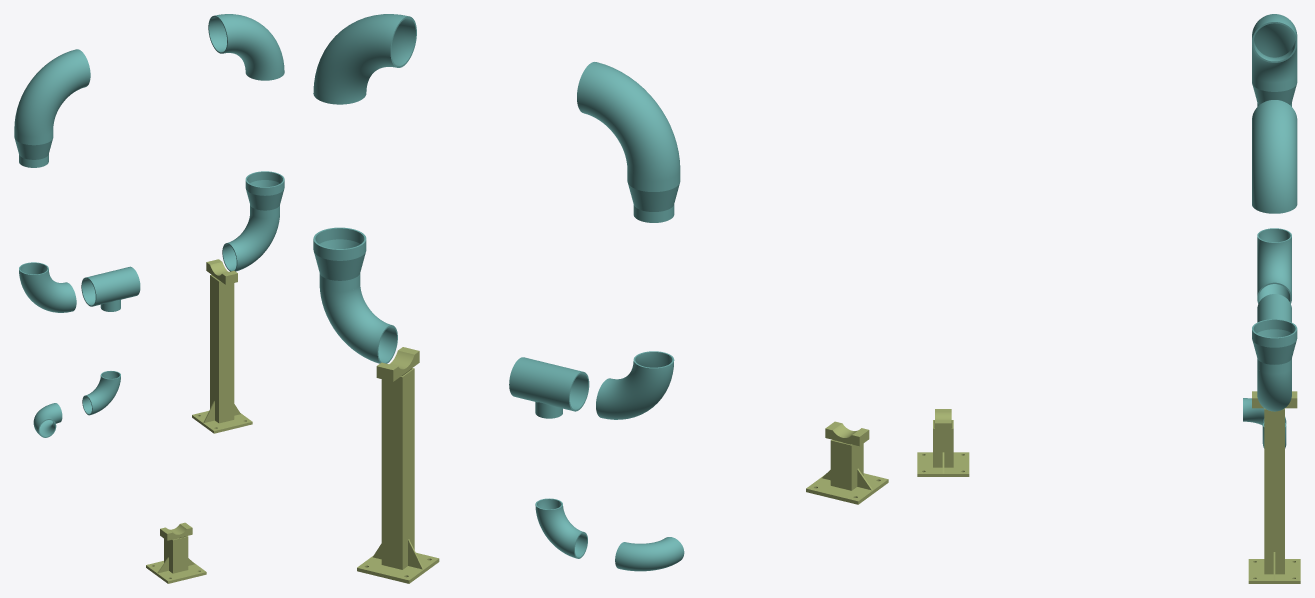
The model's file is step_29.glb.
The picture shows the model from 3 angles, left to right: view 1: azimuth 30°, elevation 25°; view 2: azimuth 150°, elevation 25°; view 3: azimuth 270°, elevation 25°; orthographic projection. The views are drawn at different scales.
Visible parts, largest first — view 1: part__pipe support SP-101, tall, part__8" elbow top left, part__8" elbow top right, part__6" elbow bottom left, part__6" x 4" reducing tee, part__6" elbow bottom right, part__pipe support SP-101, short, part__reducer right leg, part__reducer left riser, part__4" elbow 1, part__4" elbow 2; view 2: part__pipe support SP-101, tall, part__8" elbow top left, part__8" elbow top right, part__6" elbow bottom left, part__6" x 4" reducing tee, part__6" elbow bottom right, part__pipe support SP-101, short, part__reducer right leg, part__reducer left riser, part__4" elbow 2, part__4" elbow 1; view 3: part__8" elbow top right, part__pipe support SP-101, tall, part__8" elbow top left, part__6" elbow bottom left, part__pipe support SP-101, short, part__reducer right leg, part__6" elbow bottom right, part__reducer left riser, part__6" x 4" reducing tee.
Boxes of the visible parts, x1,y1,x2,y2 form: part__pipe support SP-101, tall: [192, 259, 252, 433]; part__8" elbow top left: [14, 49, 90, 136]; part__8" elbow top right: [208, 14, 284, 80]; part__6" elbow bottom left: [19, 262, 76, 312]; part__6" x 4" reducing tee: [81, 266, 140, 311]; part__6" elbow bottom right: [222, 213, 279, 271]; part__pipe support SP-101, short: [146, 522, 206, 583]; part__reducer right leg: [245, 171, 284, 218]; part__reducer left riser: [14, 130, 53, 167]; part__4" elbow 1: [82, 371, 120, 415]; part__4" elbow 2: [33, 403, 62, 437]; part__pipe support SP-101, tall: [357, 347, 439, 583]; part__8" elbow top left: [577, 62, 680, 181]; part__8" elbow top right: [313, 14, 416, 104]; part__6" elbow bottom left: [596, 351, 674, 419]; part__6" x 4" reducing tee: [509, 357, 589, 418]; part__6" elbow bottom right: [319, 284, 397, 363]; part__pipe support SP-101, short: [806, 421, 888, 504]; part__reducer right leg: [313, 227, 366, 291]; part__reducer left riser: [627, 171, 680, 222]; part__4" elbow 2: [615, 537, 684, 571]; part__4" elbow 1: [535, 498, 587, 558]; part__8" elbow top right: [1252, 100, 1297, 213]; part__pipe support SP-101, tall: [1248, 391, 1300, 583]; part__8" elbow top left: [1252, 14, 1297, 82]; part__6" elbow bottom left: [1257, 228, 1291, 303]; part__pipe support SP-101, short: [917, 409, 969, 476]; part__reducer right leg: [1252, 319, 1297, 374]; part__6" elbow bottom right: [1257, 368, 1291, 411]; part__reducer left riser: [1252, 74, 1297, 106]; part__6" x 4" reducing tee: [1257, 294, 1291, 322].
Size of the model in its own units: 1735 by 2509 by 1850.
